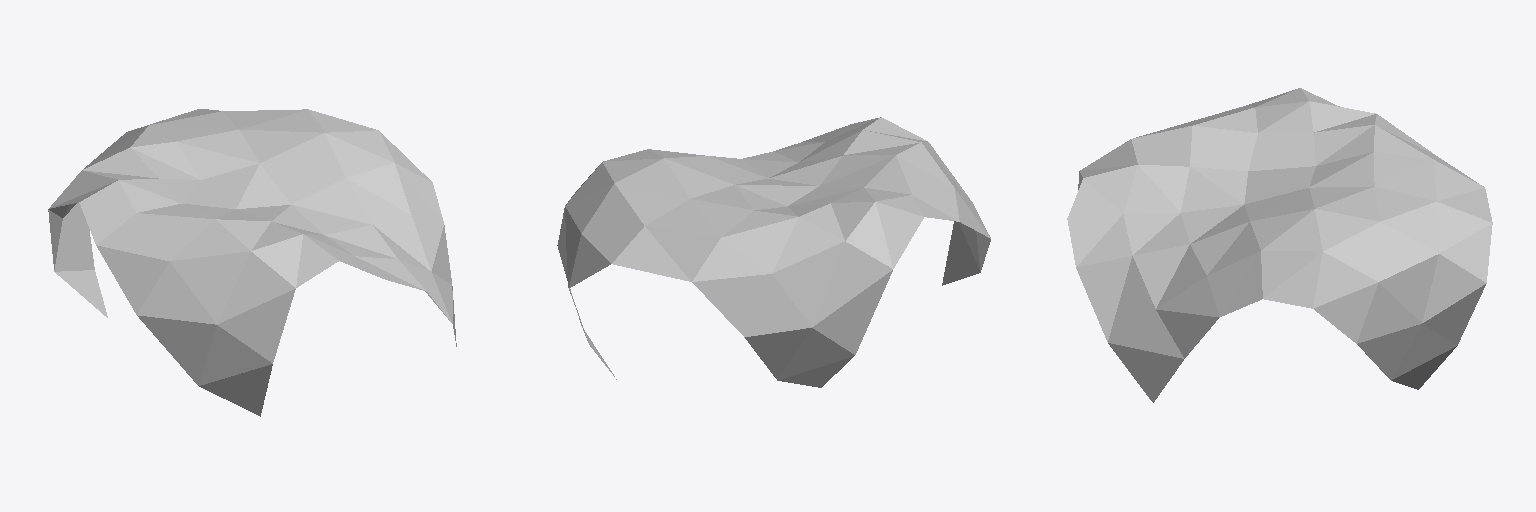
Rendered from boulder4.obj.
3 views of the same model, side by side, from view 1: azimuth 30°, elevation 25°; view 2: azimuth 150°, elevation 25°; view 3: azimuth 270°, elevation 25° (orthographic).
Visible parts, largest first — view 1: Grid.003; view 2: Grid.003; view 3: Grid.003.
Part boxes in pixels (left/top/right/bottom): Grid.003: left=48, top=109, right=456, bottom=416; Grid.003: left=557, top=117, right=990, bottom=387; Grid.003: left=1067, top=88, right=1492, bottom=402.
Bounding box in the file's own units: 3.97 × 2.05 × 4.16.